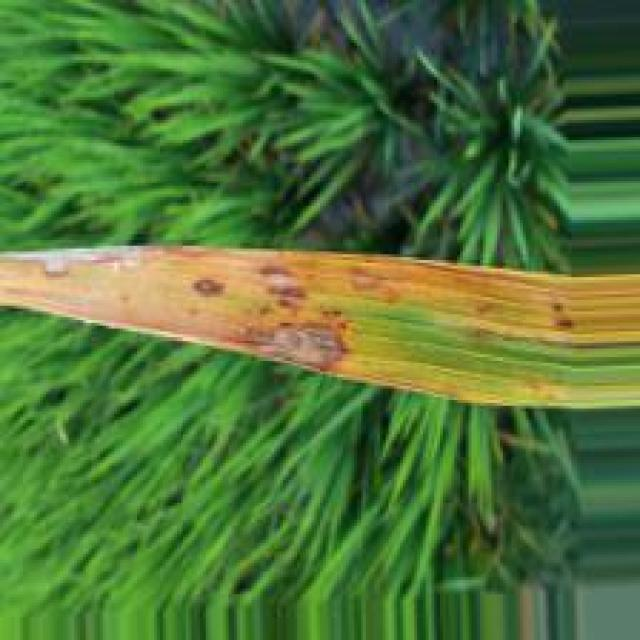Narrow_Brown_Leaf_Spot: (0, 241, 640, 394)
